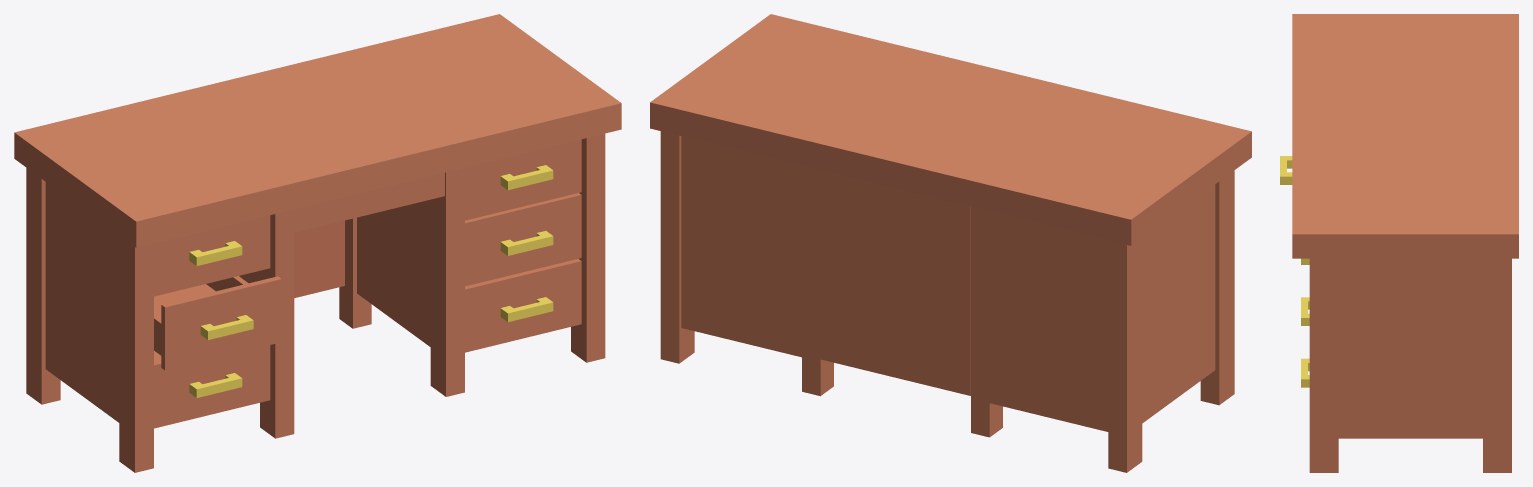
File: table.fbx
The picture shows the model from 3 angles, left to right: view 1: azimuth 30°, elevation 25°; view 2: azimuth 150°, elevation 25°; view 3: azimuth 270°, elevation 25°; orthographic projection. The views are drawn at different scales.
Visible parts, largest first — view 1: table; view 2: table; view 3: table.
Boxes of the visible parts, left/top/right/bottom form: table: left=14, top=14, right=621, bottom=472; table: left=650, top=14, right=1251, bottom=472; table: left=1280, top=14, right=1518, bottom=472.
Size of the model in its own units: 92 by 47.11 by 42.15.
